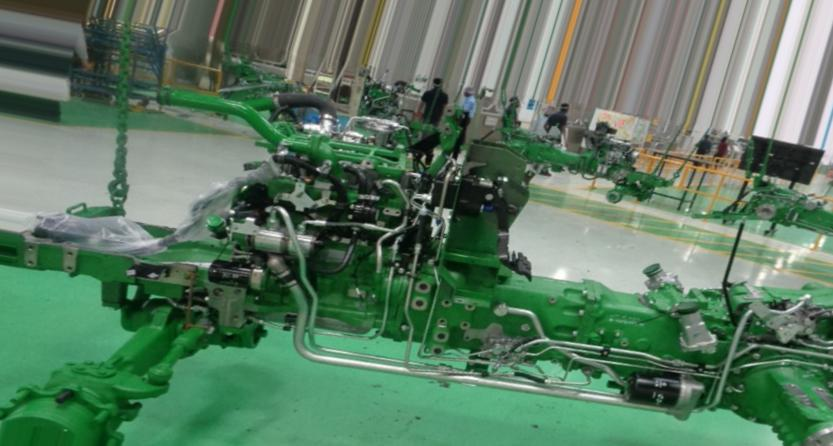engine: (0, 96, 833, 446)
